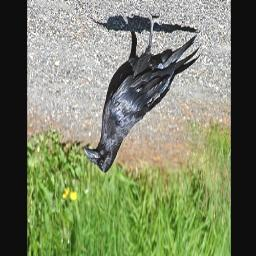Crow: (84, 7, 204, 173)
